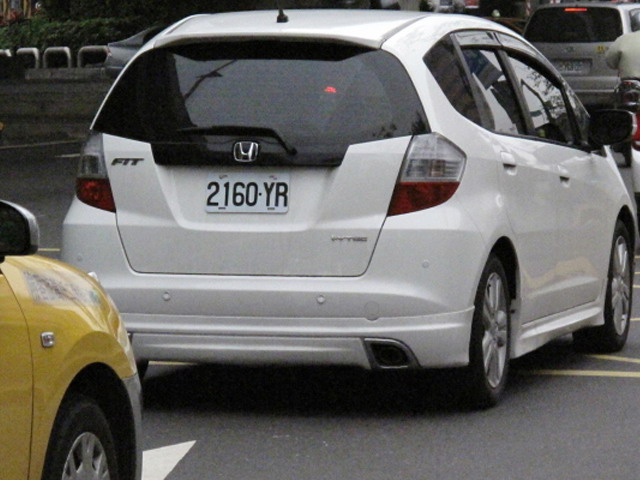plate: (204, 170, 292, 214)
